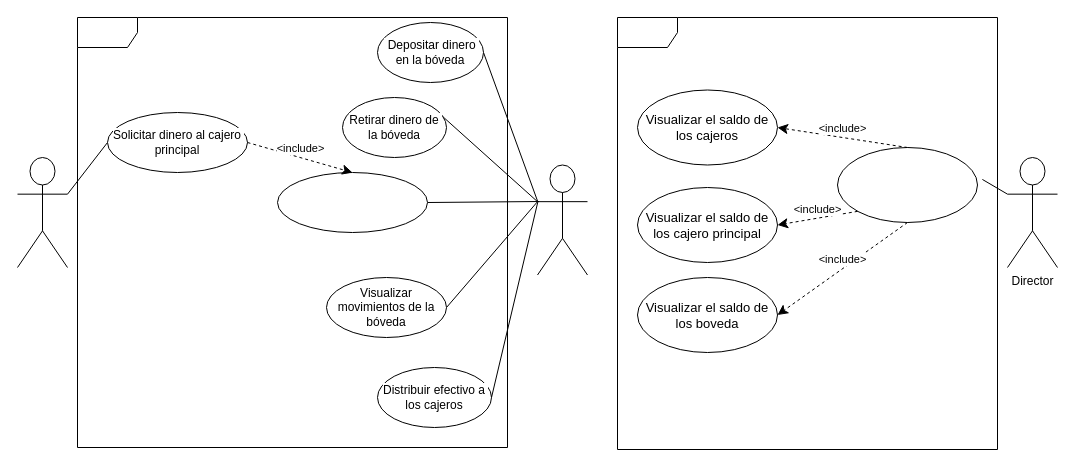
Image size: 1075x467. Some labels were removed from this diagram. Here are the shapes that lost their labels. From the top down, the box of each, then its label:
(276, 172, 428, 232): Autorizar Solicitud de dinero al cajero principal
(836, 146, 978, 222): Visualizar el saldo de Oficina
(16, 156, 68, 268): Cajero
(536, 164, 588, 275): Cajero principal
